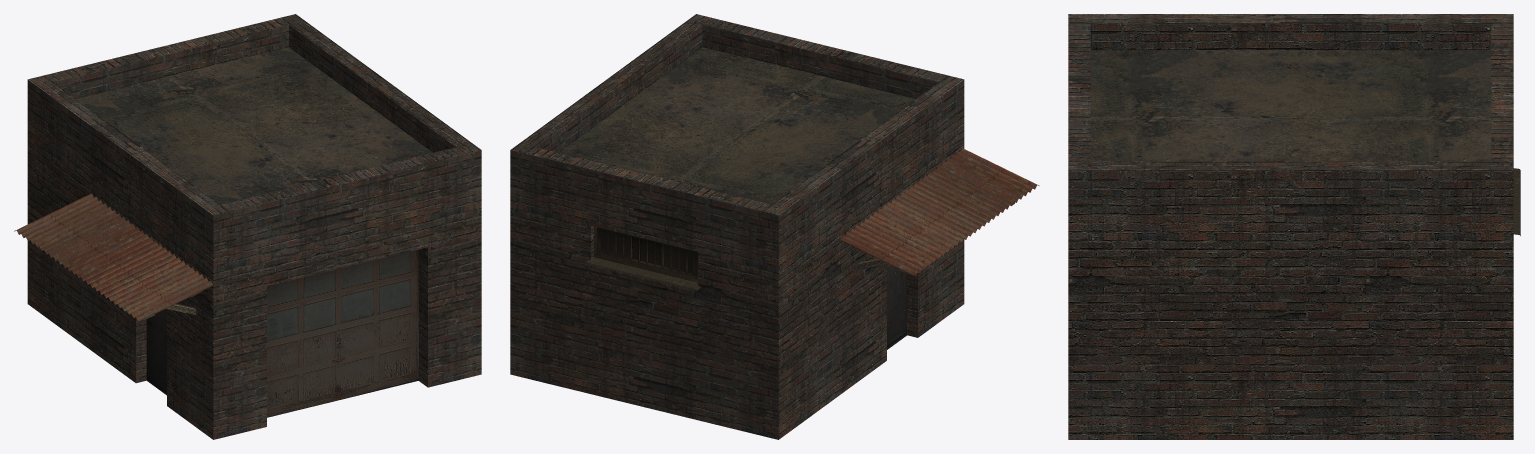
The model's file is garage_hm_1.glb.
3 views of the same model, side by side, from view 1: azimuth 30°, elevation 25°; view 2: azimuth 150°, elevation 25°; view 3: azimuth 270°, elevation 25° (orthographic). The views are drawn at different scales.
Visible parts, largest first — view 1: garage_hm_1; view 2: garage_hm_1; view 3: garage_hm_1.
Boxes of the visible parts, x1,y1,x2,y2 form: garage_hm_1: [14, 14, 481, 439]; garage_hm_1: [510, 14, 1039, 439]; garage_hm_1: [1068, 14, 1520, 439].
Bounding box in the file's own units: 6.4 × 4 × 6.1.
9 materials, 9 textured.
